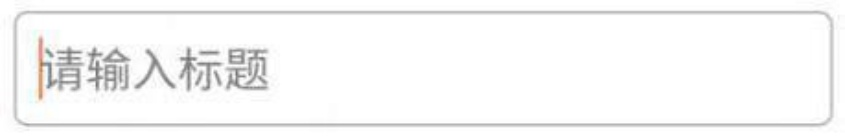EditText: (1, 1, 844, 139)
